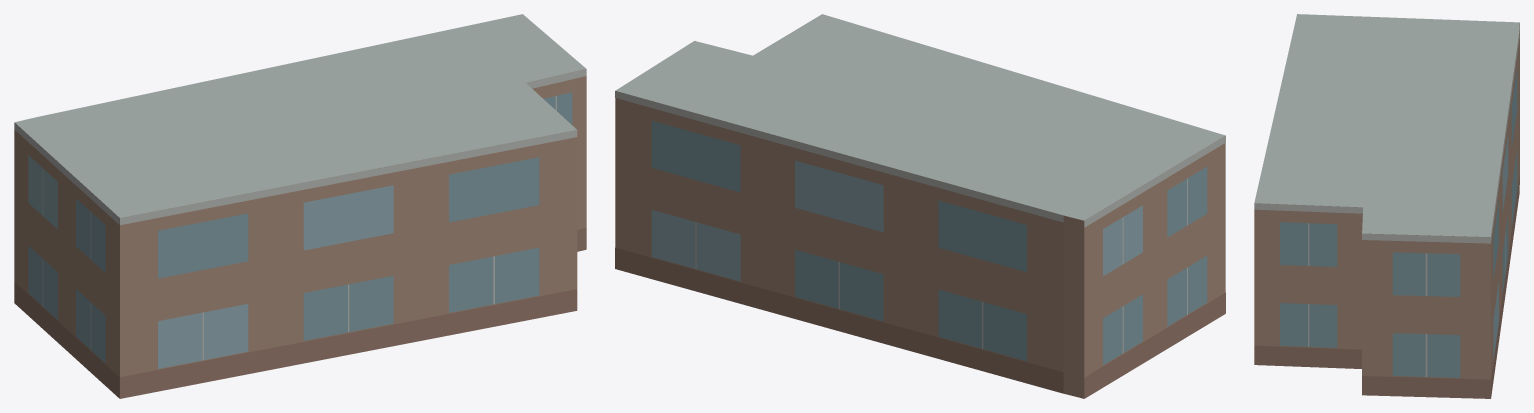
Rendered from survey-upis-32753472.glb.
The picture shows the model from 3 angles, left to right: view 1: azimuth 30°, elevation 25°; view 2: azimuth 150°, elevation 25°; view 3: azimuth 270°, elevation 25°; orthographic projection. The views are drawn at different scales.
Visible parts, largest first — view 1: survey-upis-32753472.tmp; view 2: survey-upis-32753472.tmp; view 3: survey-upis-32753472.tmp.
Part boxes in pixels (x1=…): survey-upis-32753472.tmp: x1=14, y1=14, x2=586, y2=398; survey-upis-32753472.tmp: x1=615, y1=14, x2=1225, y2=398; survey-upis-32753472.tmp: x1=1254, y1=14, x2=1519, y2=398.
Bounding box in the file's own units: 18.06 × 6.1 × 9.08.
